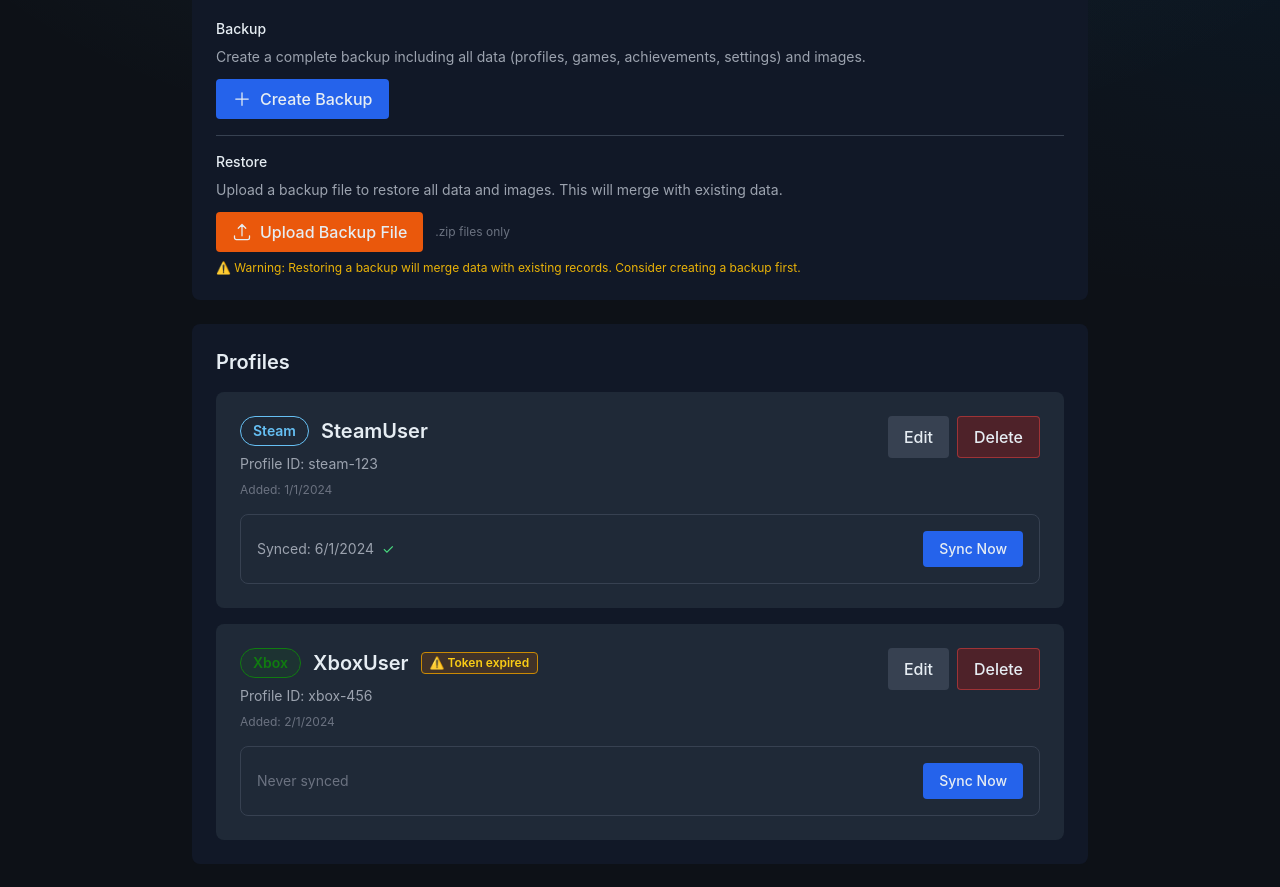
Test: Settings page — app/settings/page.tsx › shows delete confirmation when delete is clicked
(page scrolled)
Expected: the heading "SteamUser" is shown, [321,417,428,445]
Click the button "Delete" in the row of "SteamUser" at (998,437), box [957,416,1040,458]
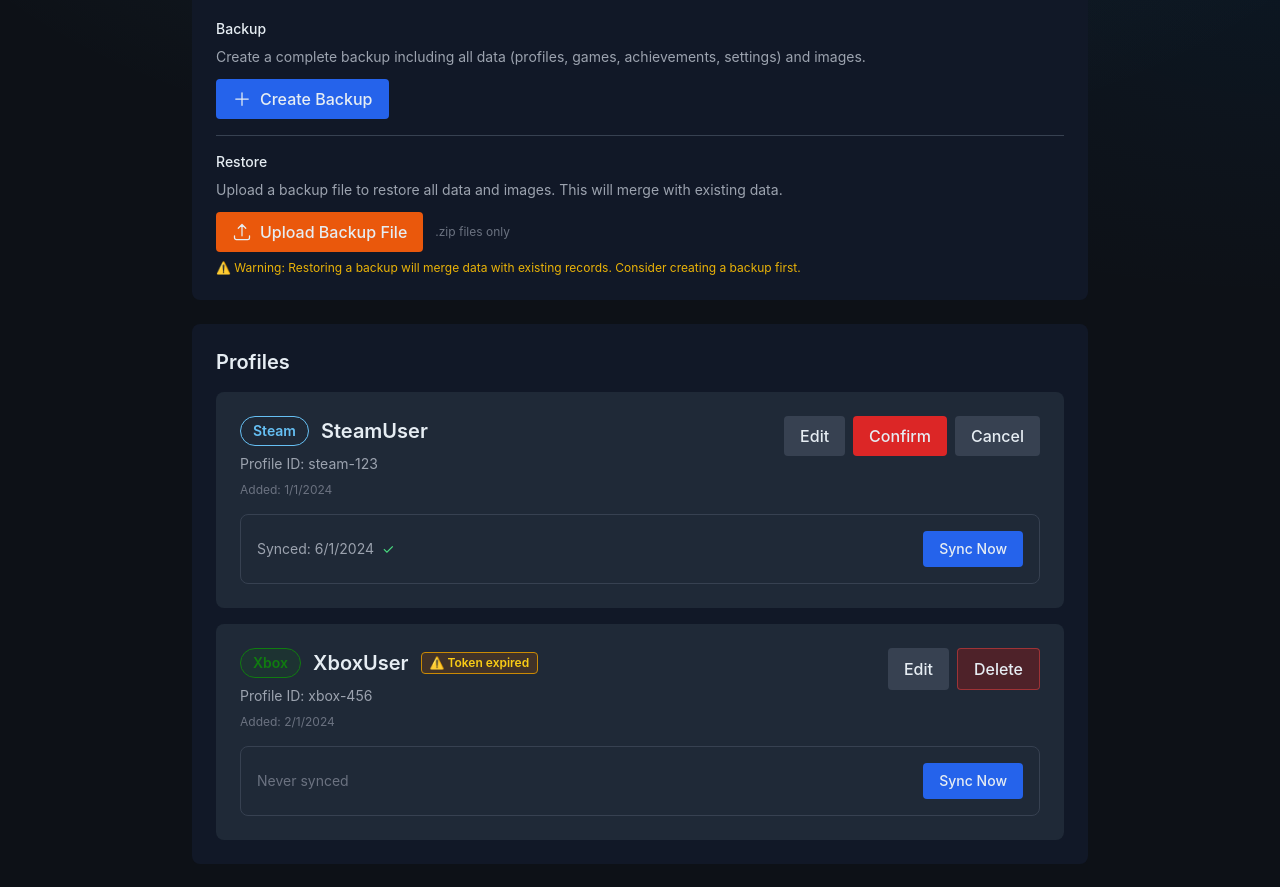
Expected: the button "Confirm" is shown, [853,416,947,456]
Expected: the button "Cancel" is shown, [955,416,1040,456]
